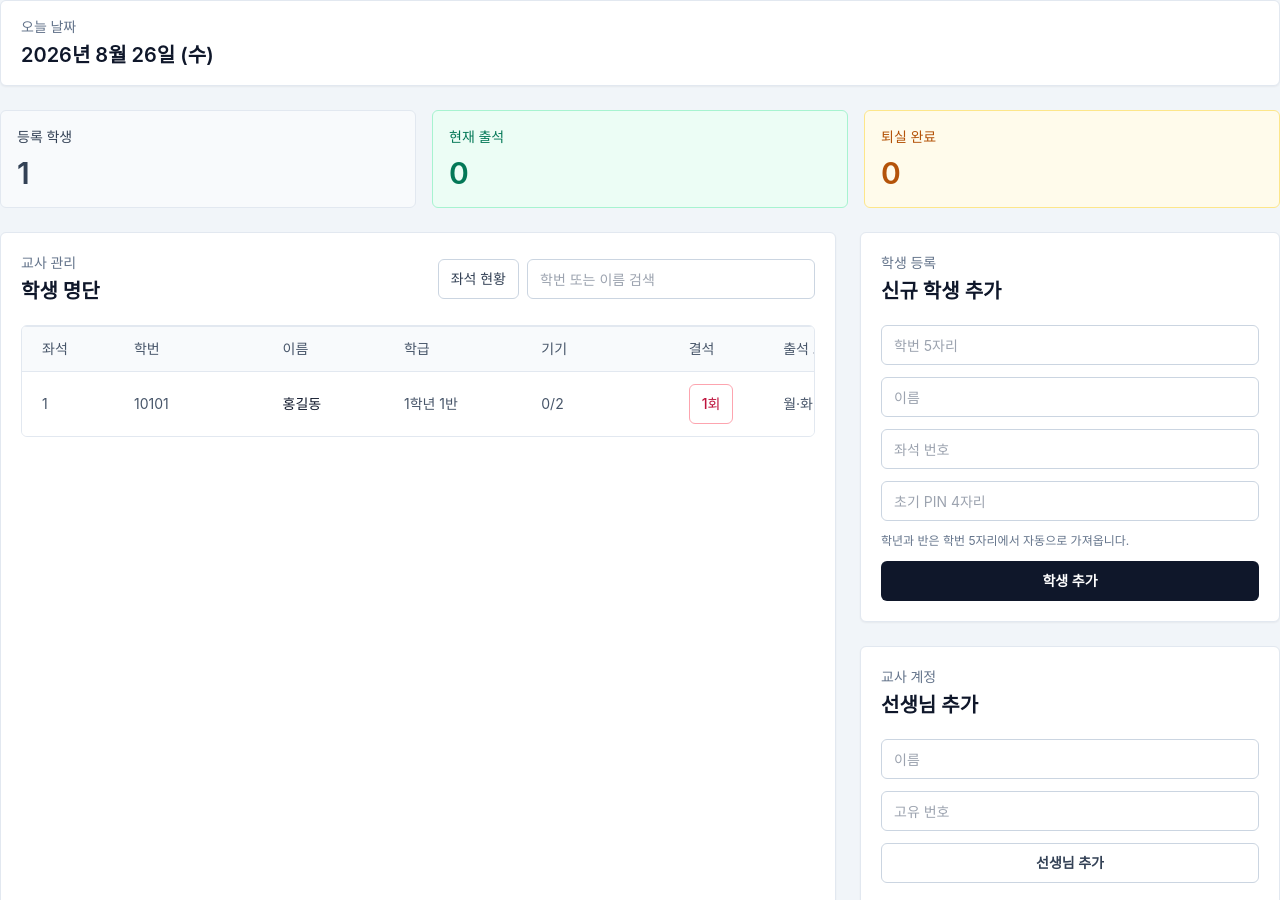
Test: teacher sees scheduled dates newest first, corrects absence, and closes with Escape
Step 1. Click the button named "홍길동 결석 기록 수정" → [711, 404], box [689,384,733,424]
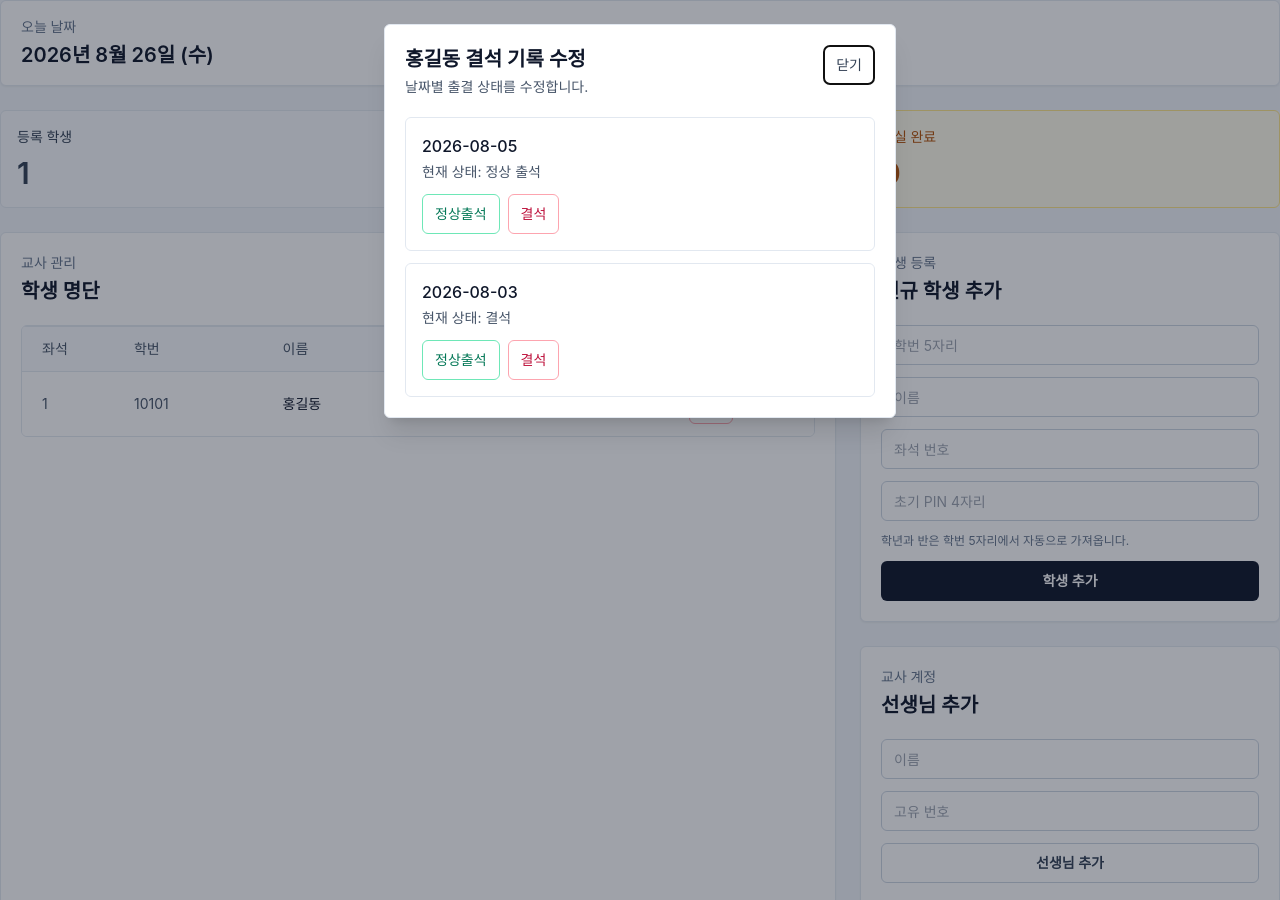
Step 2. Click the button with aria-label "2026-08-03 결석으로 수정" → [533, 360], box [508,340,559,380]
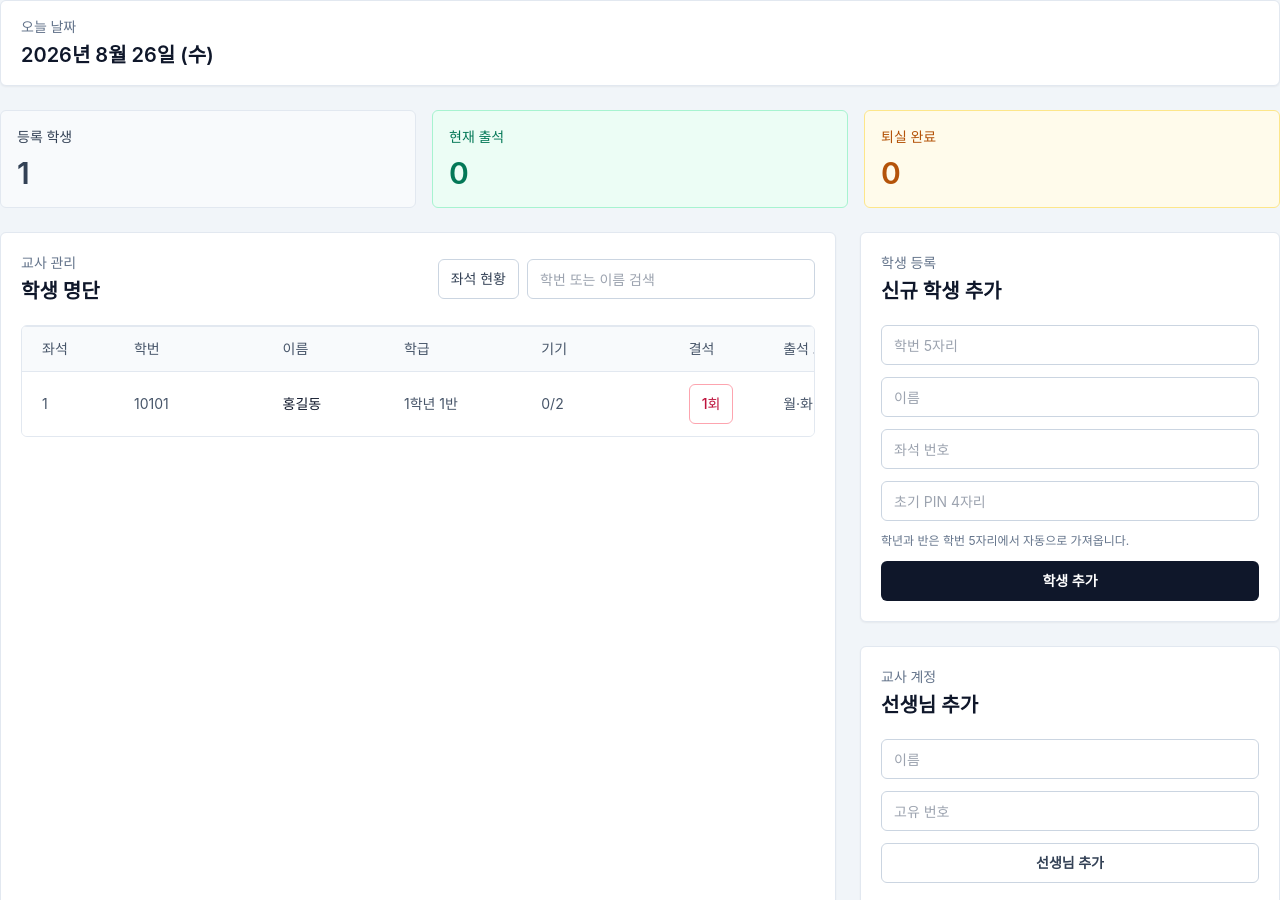
Result: the heading "홍길동 결석 기록 수정" is gone
